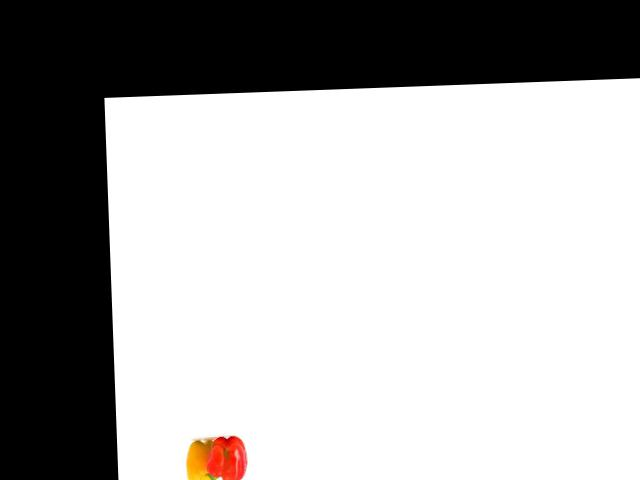bell_pepper: (184, 436, 222, 480)
